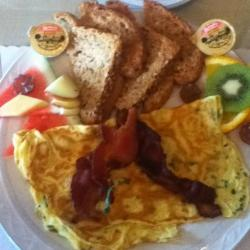bread: (62, 6, 204, 118)
omelette: (11, 104, 247, 247)
